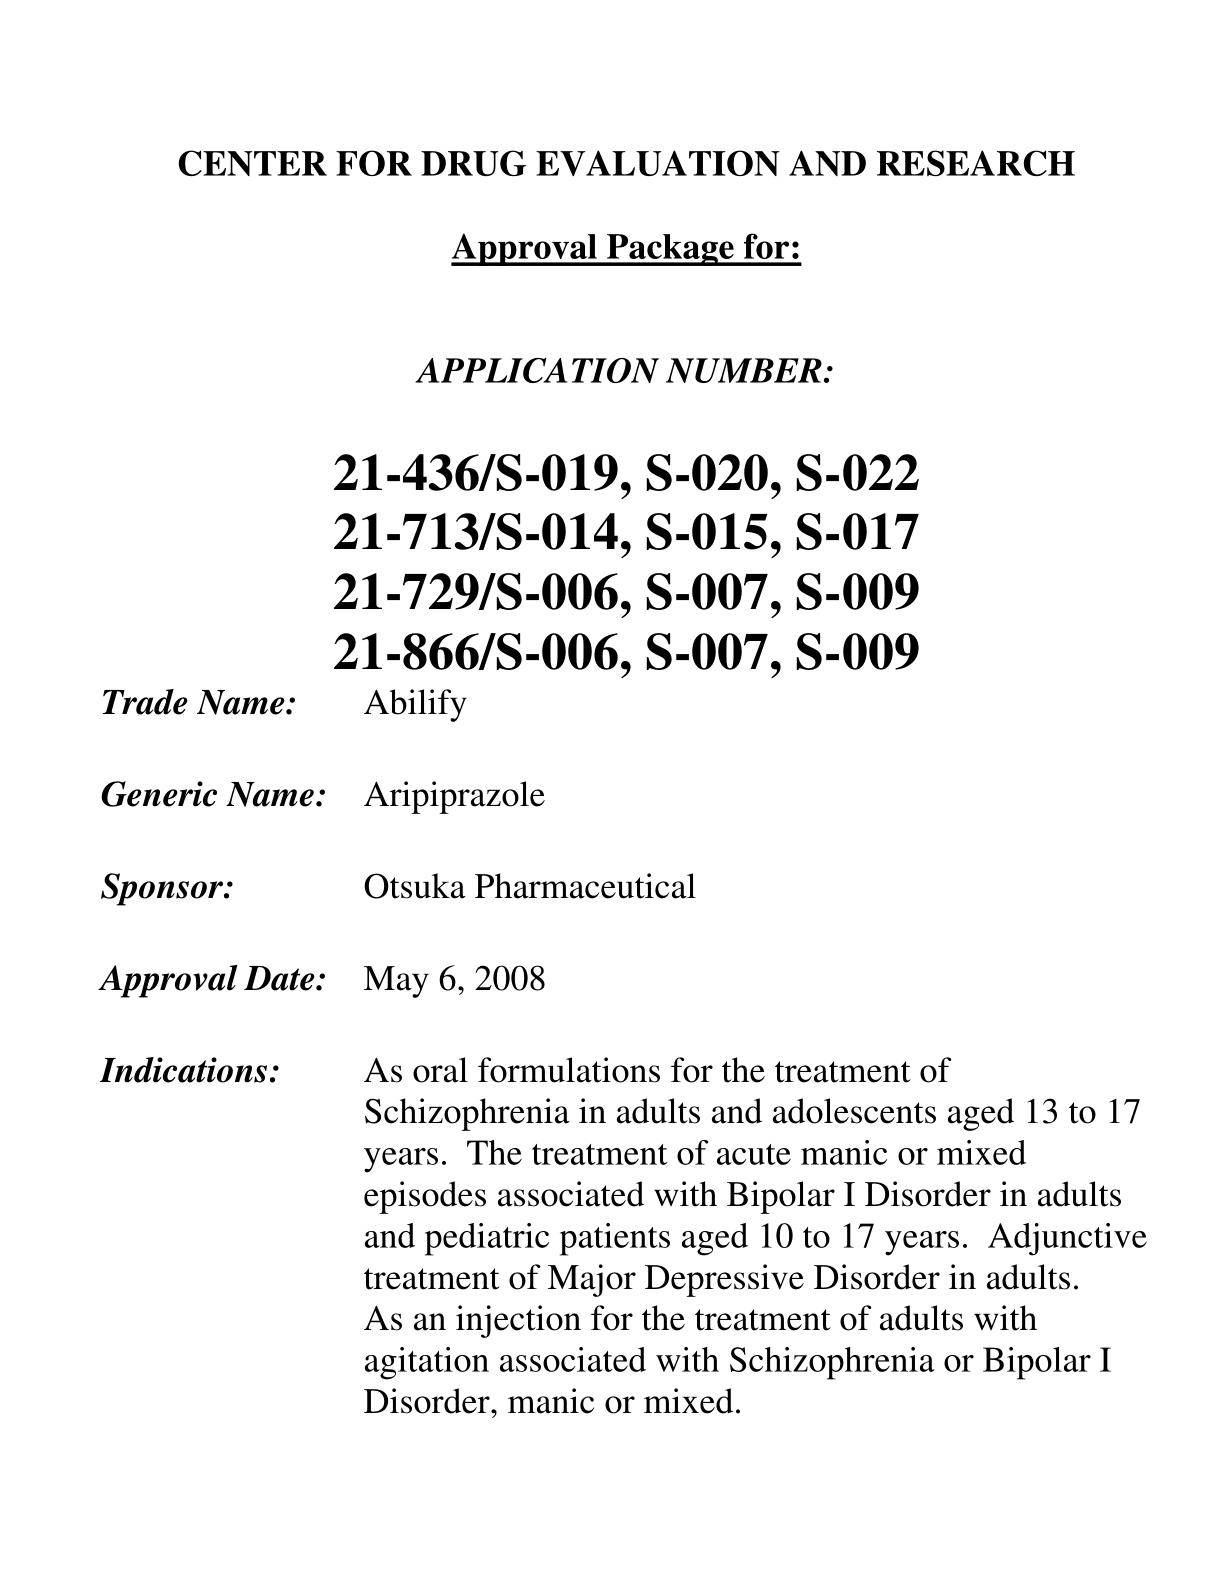nolines: (93, 680, 1152, 1425)
